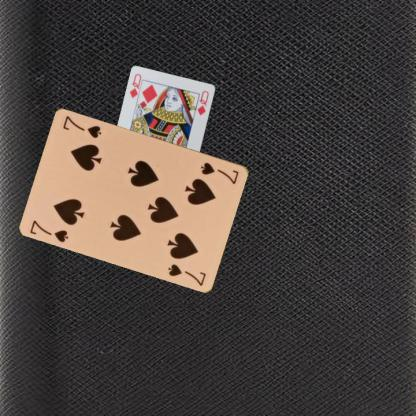7s: (28, 217, 70, 244), (198, 160, 240, 186)
Qd: (127, 71, 145, 102)
